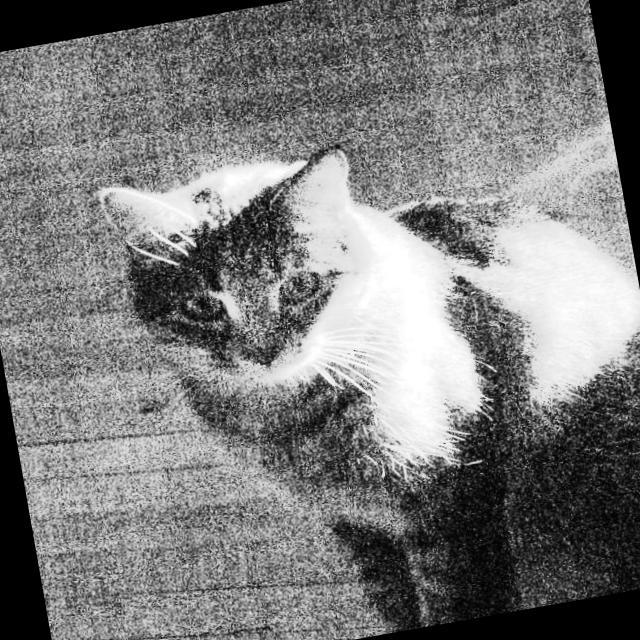Cat: (97, 69, 640, 640)
